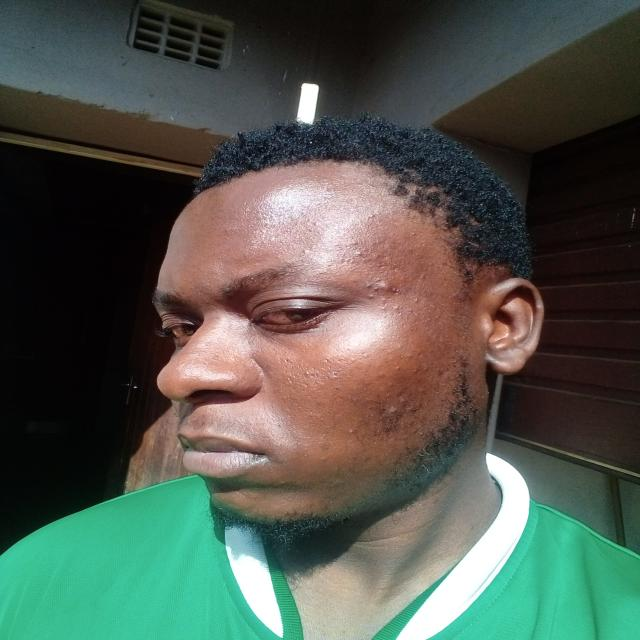Acne: (376, 278, 395, 294), (364, 282, 378, 300), (385, 404, 399, 418), (300, 247, 312, 256), (342, 428, 355, 436), (375, 372, 386, 380), (355, 250, 366, 258), (367, 211, 378, 219), (320, 443, 329, 451), (410, 231, 419, 239), (394, 304, 403, 312), (379, 304, 388, 312), (420, 273, 428, 281), (412, 367, 420, 374), (350, 240, 359, 246), (412, 296, 421, 302), (395, 365, 402, 372), (320, 456, 326, 463), (308, 228, 315, 234), (396, 344, 404, 349), (312, 221, 320, 226)
Englarged-Pores: (276, 356, 350, 393)
